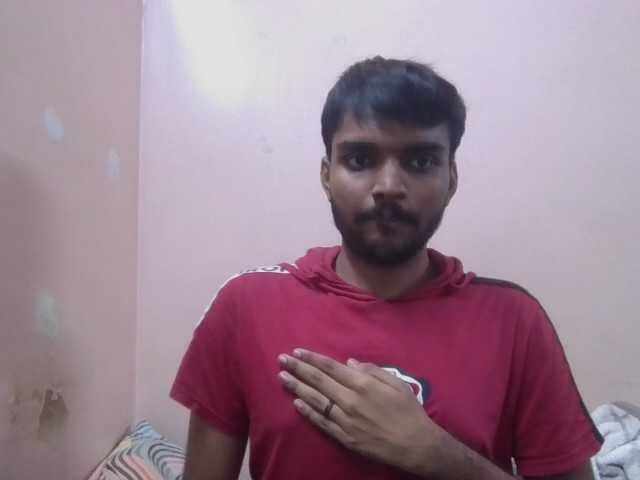Please: (272, 347, 428, 468)
